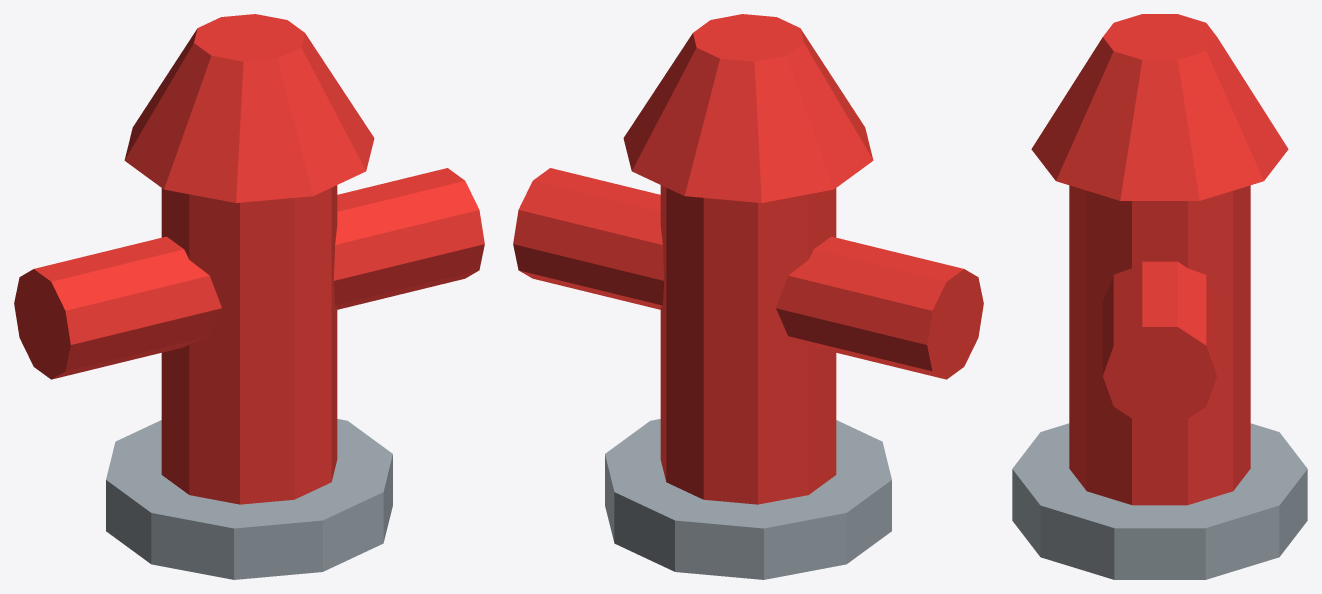
The model's file is firehydrant.glb.
The picture shows the model from 3 angles, left to right: view 1: azimuth 30°, elevation 25°; view 2: azimuth 150°, elevation 25°; view 3: azimuth 270°, elevation 25°; orthographic projection.
Parts seen in each view (by area): view 1: firehydrant_body, firehydrant_top, firehydrant_base, firehydrant_side, firehydrant_side.001; view 2: firehydrant_body, firehydrant_top, firehydrant_base, firehydrant_side, firehydrant_side.001; view 3: firehydrant_body, firehydrant_top, firehydrant_base, firehydrant_side.001.
Boxes of the visible parts, x1,y1,x2,y2 form: firehydrant_body: (161, 185, 337, 504); firehydrant_top: (124, 14, 374, 202); firehydrant_base: (106, 419, 392, 579); firehydrant_side: (14, 236, 221, 379); firehydrant_side.001: (333, 168, 484, 309); firehydrant_body: (660, 185, 836, 504); firehydrant_top: (623, 14, 873, 202); firehydrant_base: (605, 419, 891, 579); firehydrant_side: (776, 236, 983, 379); firehydrant_side.001: (513, 168, 664, 309); firehydrant_body: (1069, 185, 1250, 505); firehydrant_top: (1031, 14, 1288, 200); firehydrant_base: (1012, 423, 1307, 579); firehydrant_side.001: (1102, 261, 1217, 425).
Bounding box in the file's own units: 1.01 × 1.12 × 0.62.
